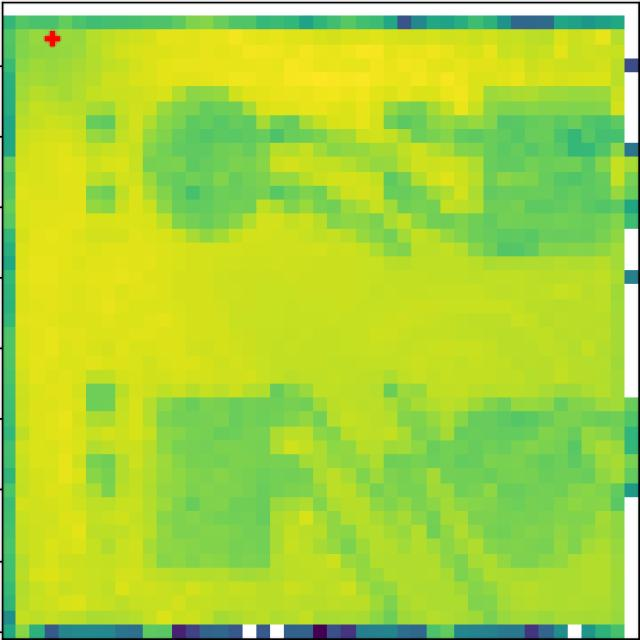Concrete: (481, 85, 610, 260)
Glass: (142, 86, 275, 247)
Metal: (458, 394, 595, 573)
Wood: (145, 394, 284, 575)
